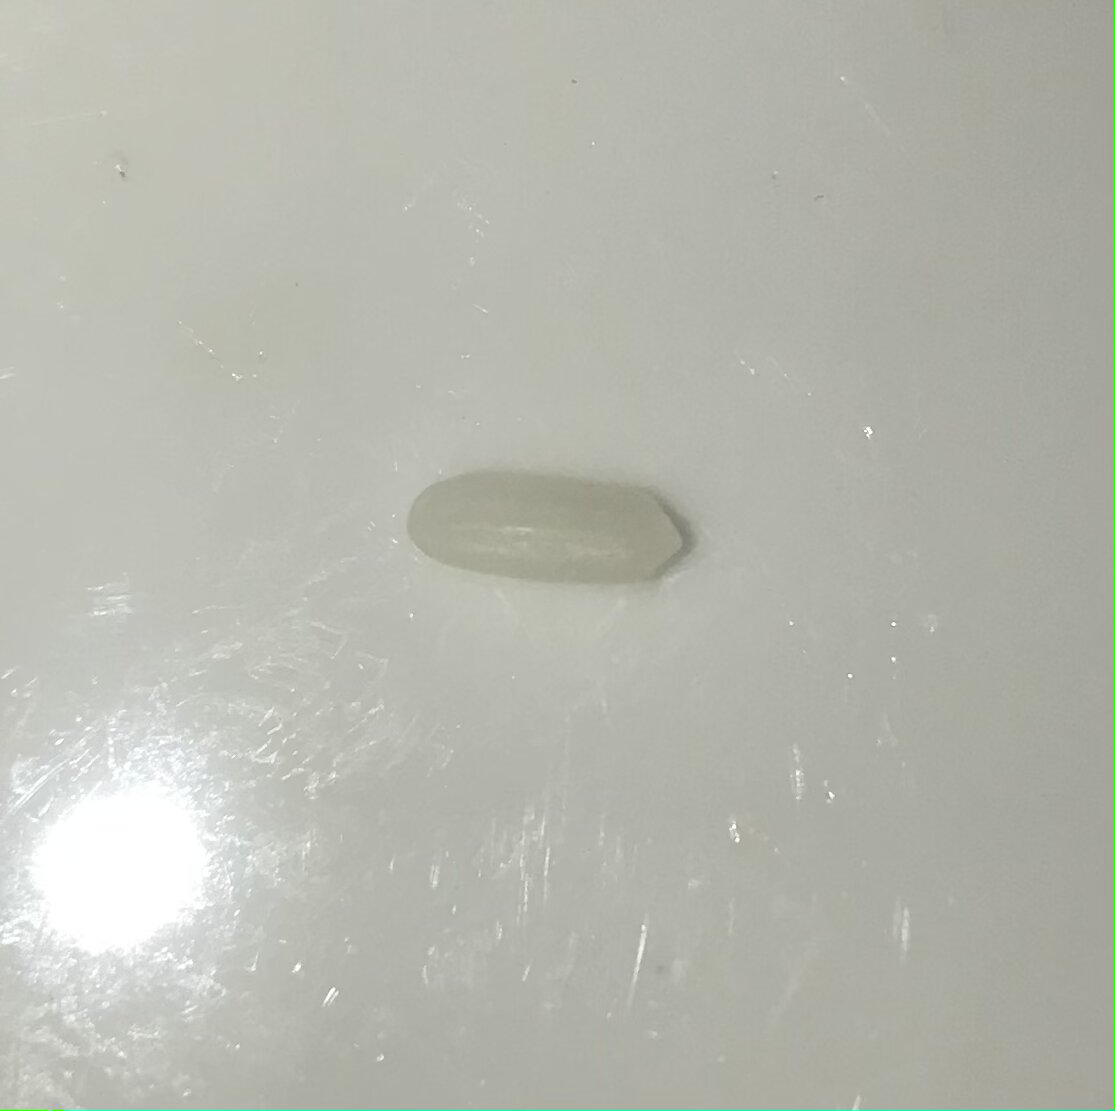Gao Lai Sua: (404, 466, 693, 597)
